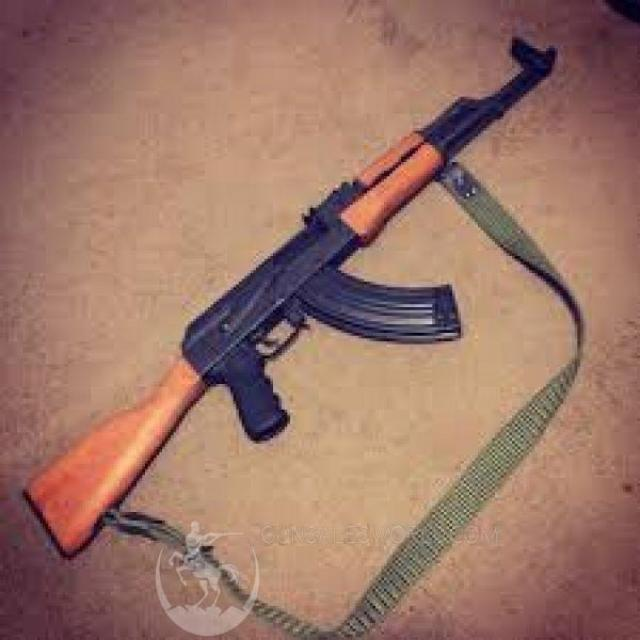gun: (34, 33, 560, 557)
